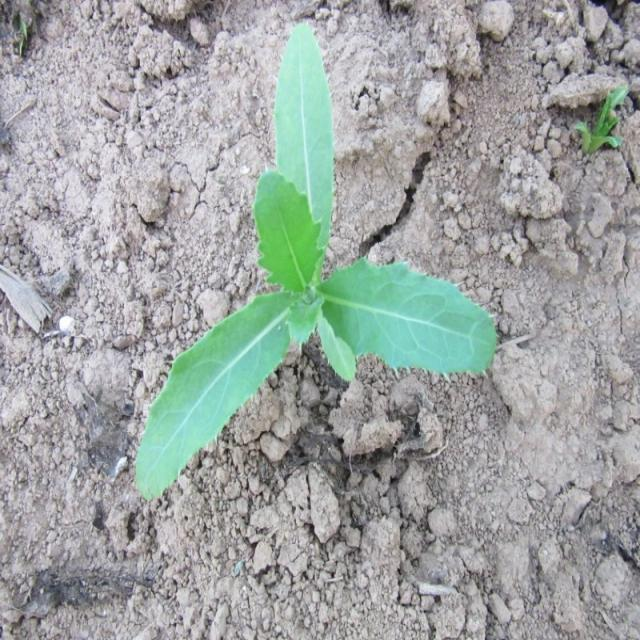cs: (130, 20, 499, 505)
